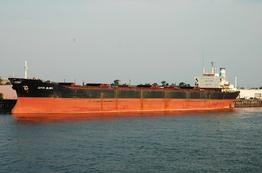Cargoship: (5, 49, 242, 120)
